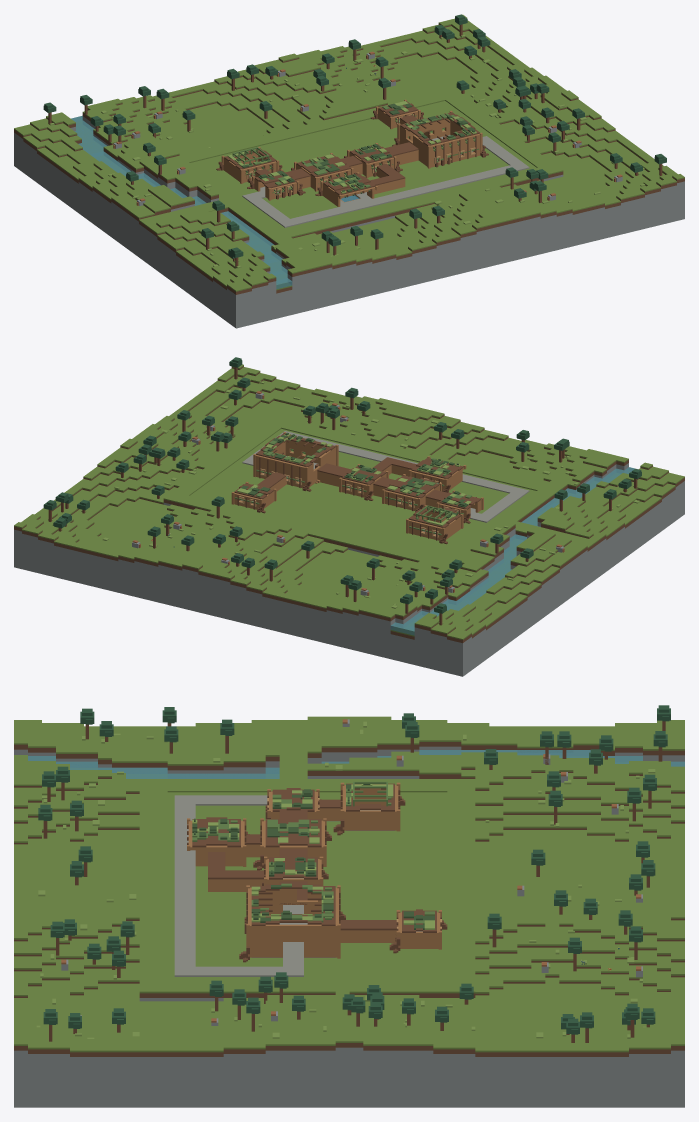
The model's file is grove.glb.
The picture shows the model from 3 angles, top to bottom: view 1: azimuth 30°, elevation 25°; view 2: azimuth 150°, elevation 25°; view 3: azimuth 270°, elevation 25°; orthographic projection. The views are drawn at different scales.
Parts seen in each view (by area): view 1: grove/surface, grove/terrain, grove/vegetation, grove/grove_dungeon/room_walls, grove/grove_dungeon/floor_mesh, grove/grove_dungeon/exterior_details, grove/watercourses, grove/grove_dungeon/roof_arena, grove/grove_dungeon/corridor_walls, grove/outcrops, grove/grove_dungeon/roof_workshop, grove/grove_dungeon/roof_cistern (+2 smaller); view 2: grove/surface, grove/terrain, grove/vegetation, grove/grove_dungeon/room_walls, grove/grove_dungeon/exterior_details, grove/watercourses, grove/grove_dungeon/floor_mesh, grove/grove_dungeon/roof_arena, grove/grove_dungeon/corridor_walls, grove/outcrops, grove/grove_dungeon/roof_workshop, grove/grove_dungeon/roof_cistern (+2 smaller); view 3: grove/surface, grove/terrain, grove/vegetation, grove/grove_dungeon/room_walls, grove/grove_dungeon/floor_mesh, grove/watercourses, grove/grove_dungeon/exterior_details, grove/grove_dungeon/roof_arena, grove/grove_dungeon/corridor_walls, grove/grove_dungeon/roof_workshop, grove/grove_dungeon/roof_cistern, grove/grove_dungeon/roof_production (+5 smaller).
Boxes of the visible parts, x1,y1,x2,y2 form: grove/surface: (14, 14, 684, 291); grove/terrain: (14, 24, 684, 328); grove/vegetation: (43, 14, 666, 268); grove/grove_dungeon/room_walls: (223, 108, 480, 206); grove/grove_dungeon/floor_mesh: (242, 120, 529, 227); grove/grove_dungeon/exterior_details: (216, 99, 488, 200); grove/watercourses: (71, 115, 292, 289); grove/grove_dungeon/roof_arena: (400, 112, 479, 145); grove/grove_dungeon/corridor_walls: (254, 119, 432, 194); grove/outcrops: (113, 51, 622, 205); grove/grove_dungeon/roof_workshop: (296, 154, 350, 177); grove/grove_dungeon/roof_cistern: (323, 174, 375, 194); grove/surface: (14, 364, 684, 639); grove/terrain: (14, 366, 684, 676); grove/vegetation: (43, 357, 641, 625); grove/grove_dungeon/room_walls: (234, 440, 481, 540); grove/grove_dungeon/exterior_details: (231, 432, 483, 544); grove/watercourses: (390, 467, 634, 635); grove/grove_dungeon/floor_mesh: (241, 431, 529, 534); grove/grove_dungeon/roof_arena: (256, 432, 335, 466); grove/grove_dungeon/corridor_walls: (270, 465, 456, 521); grove/outcrops: (132, 391, 564, 595); grove/grove_dungeon/roof_workshop: (384, 475, 439, 498); grove/grove_dungeon/roof_cistern: (411, 457, 463, 478); grove/surface: (14, 716, 684, 1052); grove/terrain: (14, 742, 684, 1107); grove/vegetation: (36, 705, 670, 1042); grove/grove_dungeon/room_walls: (188, 785, 440, 957); grove/grove_dungeon/floor_mesh: (174, 795, 422, 976); grove/watercourses: (28, 750, 684, 778); grove/grove_dungeon/exterior_details: (187, 782, 447, 962); grove/grove_dungeon/roof_arena: (251, 883, 335, 925); grove/grove_dungeon/corridor_walls: (208, 808, 396, 942); grove/grove_dungeon/roof_workshop: (265, 817, 321, 847); grove/grove_dungeon/roof_cistern: (192, 817, 240, 847); grove/grove_dungeon/roof_production: (346, 781, 394, 811).
Bounding box in the file's own units: 224 × 30.5 × 192.
